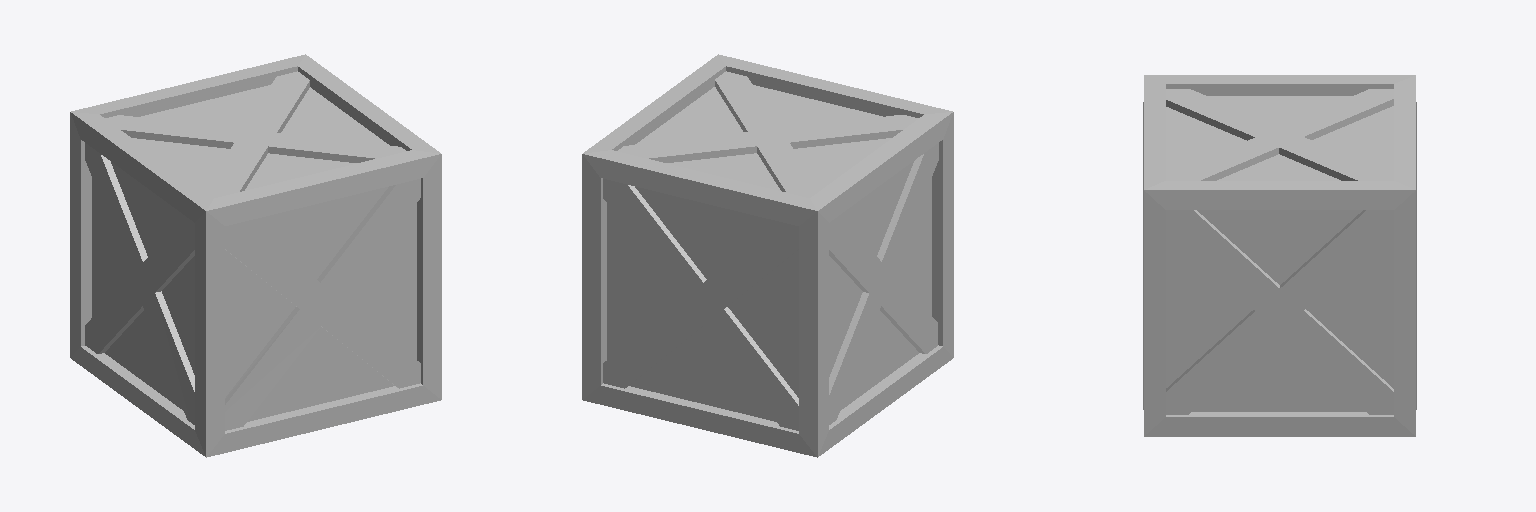
Rendered from crate.obj.
3 renders of one model, left to right at view 1: azimuth 30°, elevation 25°; view 2: azimuth 150°, elevation 25°; view 3: azimuth 270°, elevation 25°, orthographic.
Visible parts, largest first — view 1: Mesh_CrateNoParachuteOBJ; view 2: Mesh_CrateNoParachuteOBJ; view 3: Mesh_CrateNoParachuteOBJ.
Part boxes in pixels (left/top/right/bottom): Mesh_CrateNoParachuteOBJ: left=70, top=54, right=441, bottom=457; Mesh_CrateNoParachuteOBJ: left=582, top=54, right=953, bottom=457; Mesh_CrateNoParachuteOBJ: left=1143, top=75, right=1416, bottom=436.
Size of the model in its own units: 4.92 by 4.92 by 4.92.